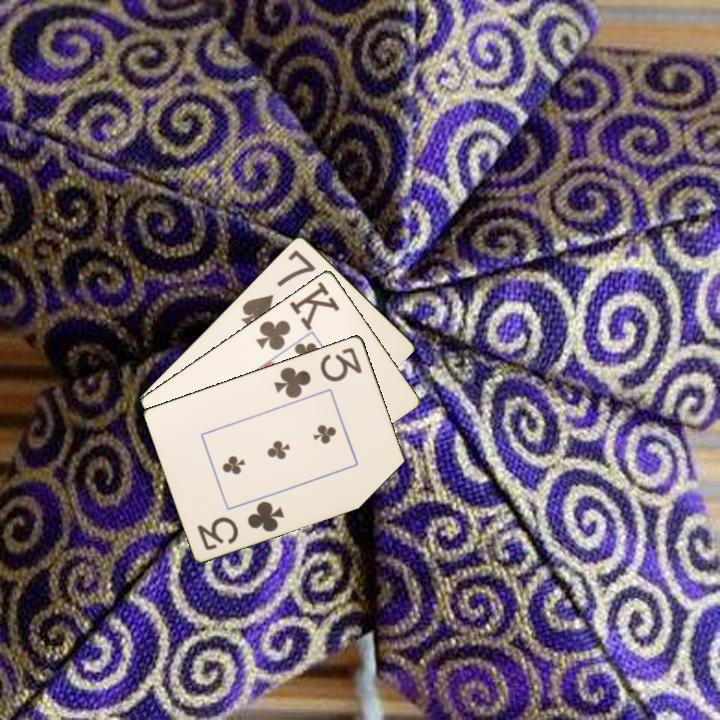3c: (270, 343, 365, 401), (194, 497, 287, 553)
7s: (237, 246, 319, 330)
Kc: (252, 277, 342, 353)
